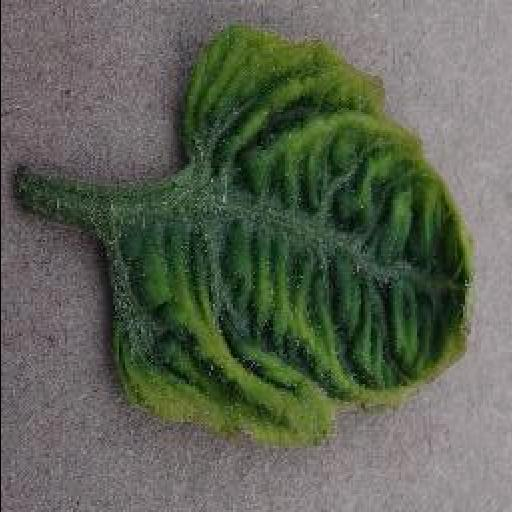disease_tomato: (90, 20, 476, 446)
